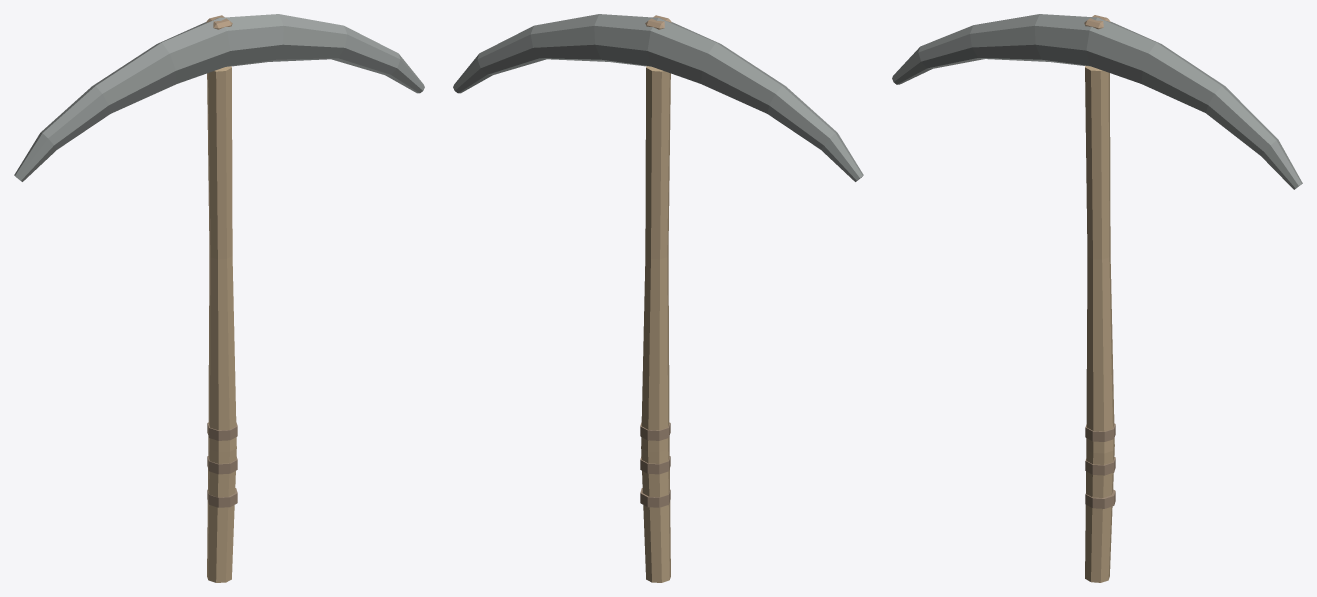
File: pickaxe.glb
3 views of the same model, side by side, from view 1: azimuth 30°, elevation 25°; view 2: azimuth 150°, elevation 25°; view 3: azimuth 330°, elevation 25° (orthographic).
Parts seen in each view (by area): view 1: One_Piece_Forged_Head, Wood_Handle; view 2: One_Piece_Forged_Head, Wood_Handle; view 3: One_Piece_Forged_Head, Wood_Handle.
Part boxes in pixels (x1,y1,x2,y2): One_Piece_Forged_Head: (14, 14, 424, 181); Wood_Handle: (207, 66, 236, 582); One_Piece_Forged_Head: (453, 14, 863, 181); Wood_Handle: (641, 66, 670, 582); One_Piece_Forged_Head: (892, 14, 1302, 189); Wood_Handle: (1085, 65, 1114, 582).
Size of the model in its own units: 0.2562 by 0.3355 by 0.024.
